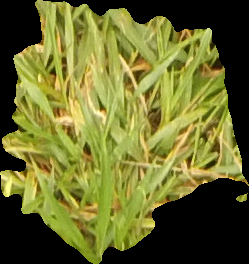grass: (1, 1, 248, 262)
